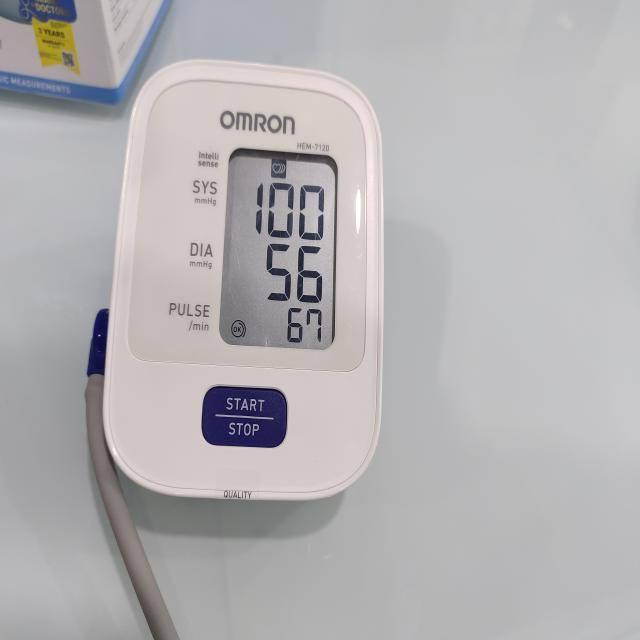bp: (99, 61, 386, 506)
